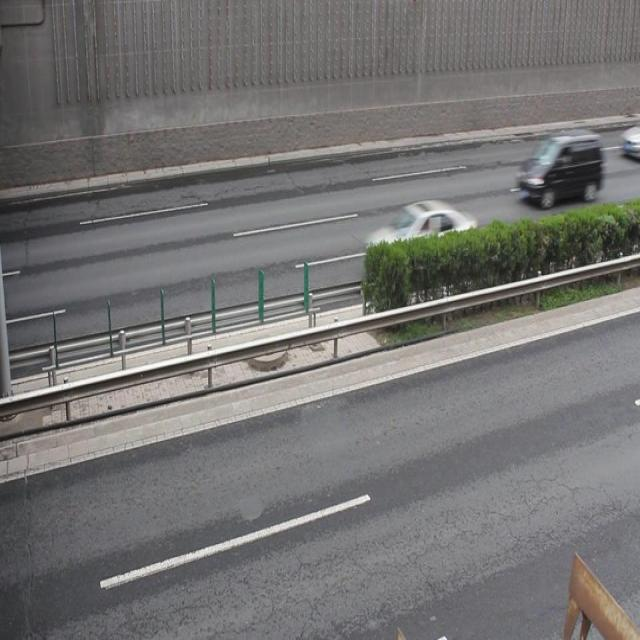car: (365, 200, 475, 280), (516, 131, 602, 207)
